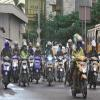motorcycles: (77, 55, 90, 100), (89, 54, 100, 88), (46, 53, 56, 87), (1, 56, 11, 88), (33, 52, 42, 85), (20, 52, 28, 88), (56, 54, 64, 83), (12, 53, 19, 82), (29, 53, 35, 84)
